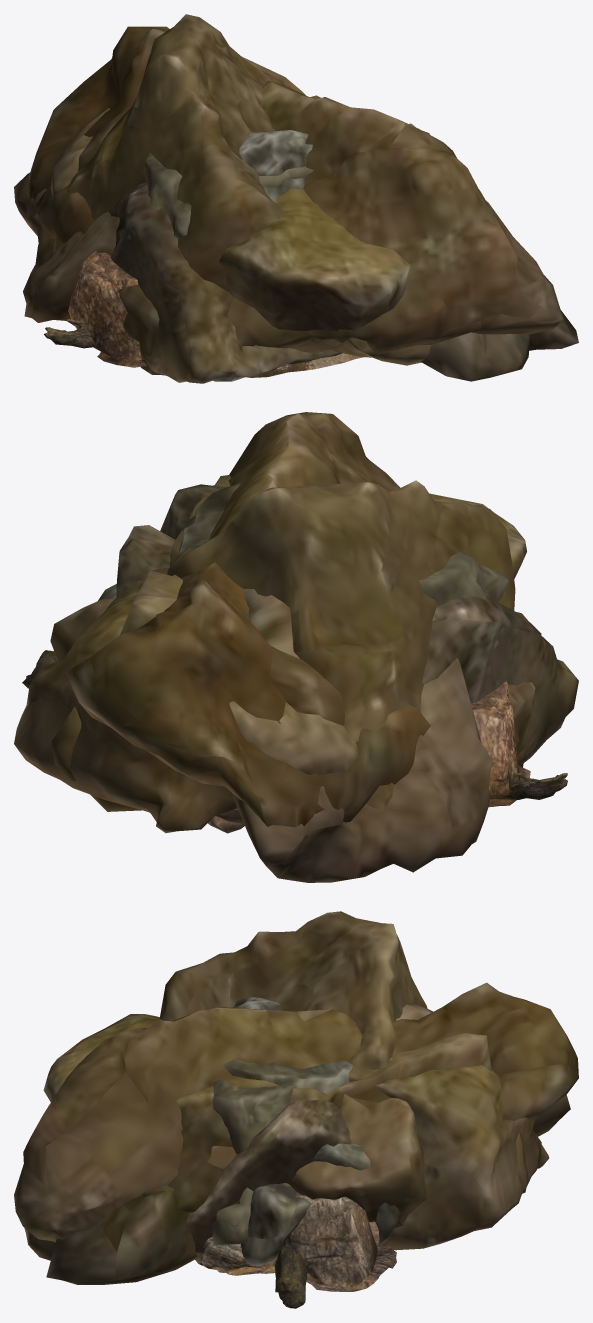
File: props.glb
3 views of the same model, one above another, from view 1: azimuth 30°, elevation 25°; view 2: azimuth 150°, elevation 25°; view 3: azimuth 270°, elevation 25° (orthographic). The views are drawn at different scales.
Parts seen in each view (by area): view 1: mossrock_0, mossrock_3, mossrock_4, mossrock_2, mossrock_1, boulder_1, mossrock_10, mossrock_12, mossrock_5, stump_0, log_0; view 2: mossrock_0, mossrock_3, mossrock_1, mossrock_4, mossrock_2, mossrock_12, mossrock_5, boulder_1, log_0; view 3: mossrock_0, mossrock_3, mossrock_4, mossrock_1, mossrock_5, boulder_1, mossrock_2, mossrock_12, mossrock_9, mossrock_10, log_0.
Boxes of the visible parts, left/top/right/bottom form: mossrock_0: left=27, top=26, right=563, bottom=375; mossrock_3: left=53, top=14, right=320, bottom=296; mossrock_4: left=50, top=93, right=410, bottom=353; mossrock_2: left=108, top=123, right=414, bottom=383; mossrock_1: left=14, top=172, right=578, bottom=381; boulder_1: left=68, top=251, right=146, bottom=367; mossrock_10: left=239, top=130, right=312, bottom=199; mossrock_12: left=127, top=128, right=429, bottom=239; mossrock_5: left=242, top=57, right=430, bottom=365; stump_0: left=244, top=353, right=364, bottom=377; log_0: left=44, top=319, right=95, bottom=348; mossrock_0: left=65, top=412, right=535, bottom=837; mossrock_3: left=50, top=480, right=515, bottom=811; mossrock_1: left=231, top=589, right=492, bottom=882; mossrock_4: left=14, top=493, right=526, bottom=833; mossrock_2: left=116, top=525, right=578, bottom=823; mossrock_12: left=160, top=482, right=508, bottom=649; mossrock_5: left=51, top=475, right=231, bottom=811; boulder_1: left=471, top=681, right=530, bottom=807; log_0: left=22, top=650, right=567, bottom=799; mossrock_0: left=14, top=982, right=578, bottom=1242; mossrock_3: left=160, top=911, right=427, bottom=1227; mossrock_4: left=43, top=1014, right=549, bottom=1250; mossrock_1: left=24, top=1003, right=570, bottom=1284; mossrock_5: left=167, top=1033, right=528, bottom=1212; boulder_1: left=195, top=1192, right=396, bottom=1291; mossrock_2: left=186, top=1099, right=352, bottom=1255; mossrock_12: left=212, top=1059, right=352, bottom=1245; mossrock_9: left=240, top=1183, right=311, bottom=1266; mossrock_10: left=229, top=997, right=401, bottom=1247; log_0: left=275, top=1245, right=307, bottom=1308.
Bounding box in the file's own units: 3.05 × 1.77 × 3.36.
9 materials, 9 textured.
